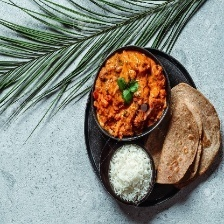roti: (151, 82, 222, 186)
